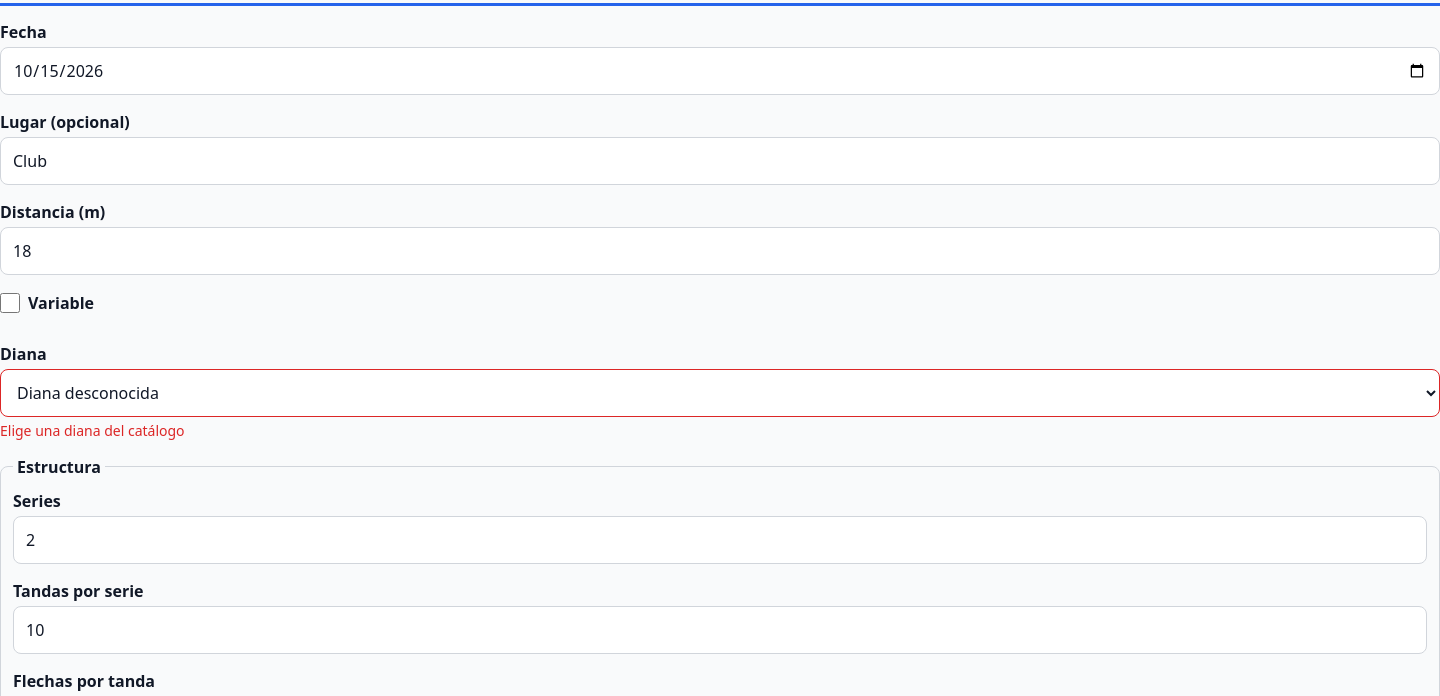
it: EditSessionView errors › unknown face without arrows asks to pick a catalogue face before saving
Expected: the text "Elige una diana del catálogo" is shown, [0,421,185,440]
Select "WA 40 cm" in the dropdown with id "es-face": (720, 393) [0,369,1439,417]
(page scrolled)
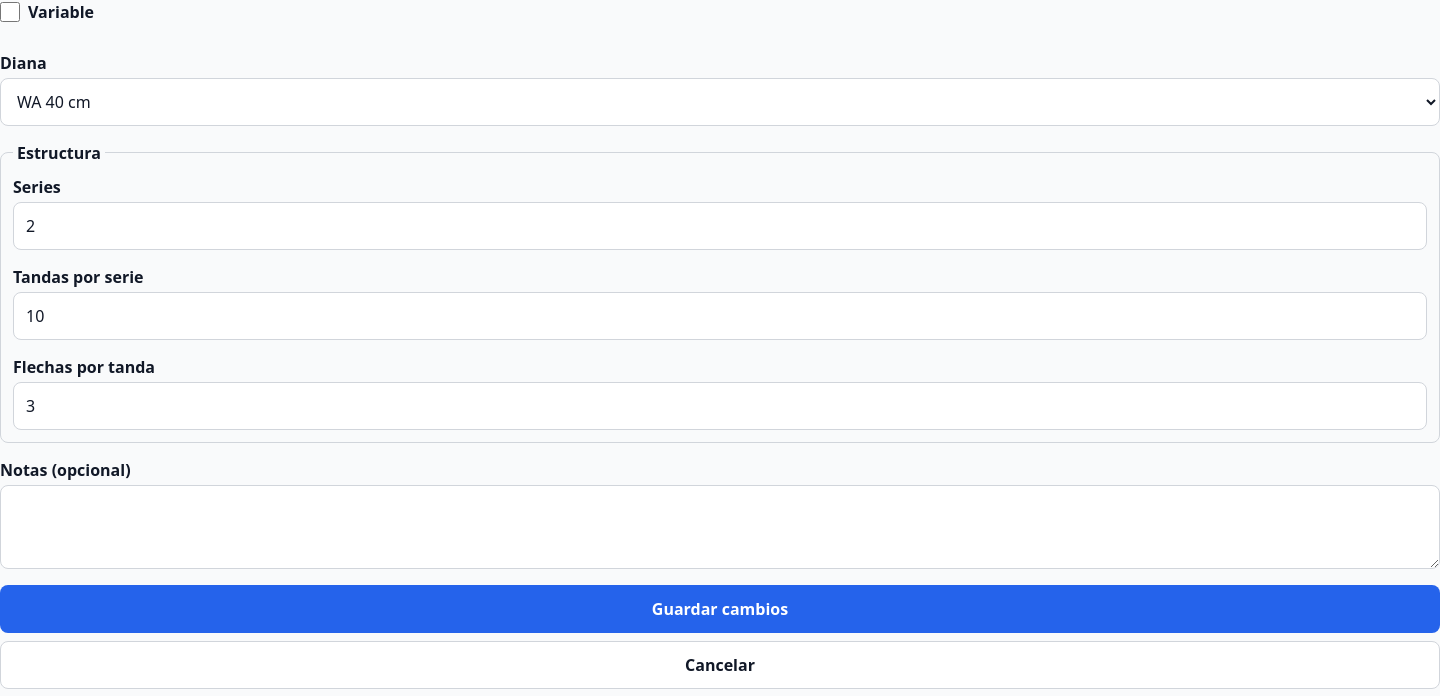
Expected: the submit button is enabled, [0,585,1439,633]
